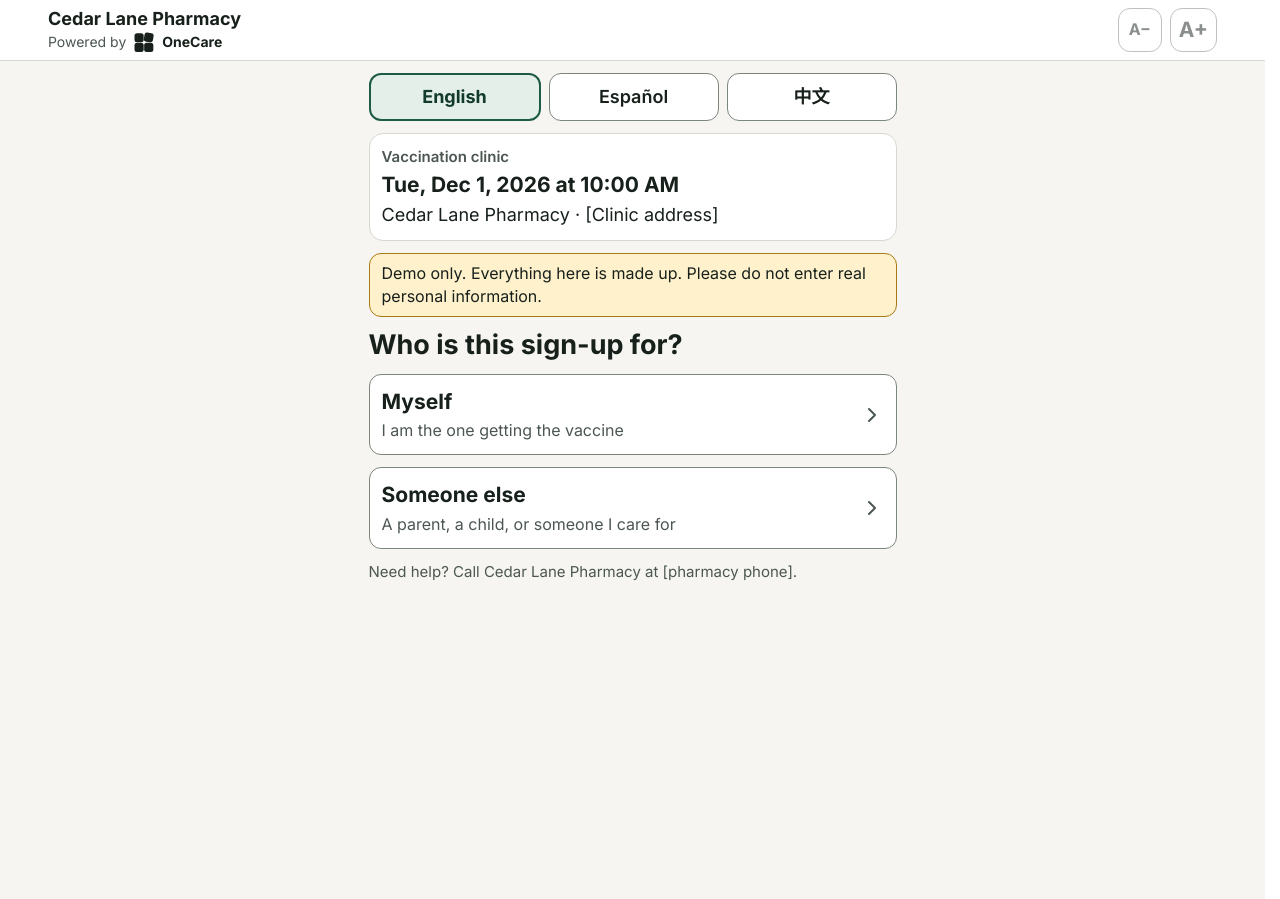
option A at /a › puts "Why we ask" right under the title of an open panel, folded
Expected: the text "Tue, Dec 1, 2026 at 10:00 AM" is shown, [382, 172, 679, 197]
Click the button "Someone else A parent, a child, or someone I care for" at (454,495), box [368, 468, 896, 549]
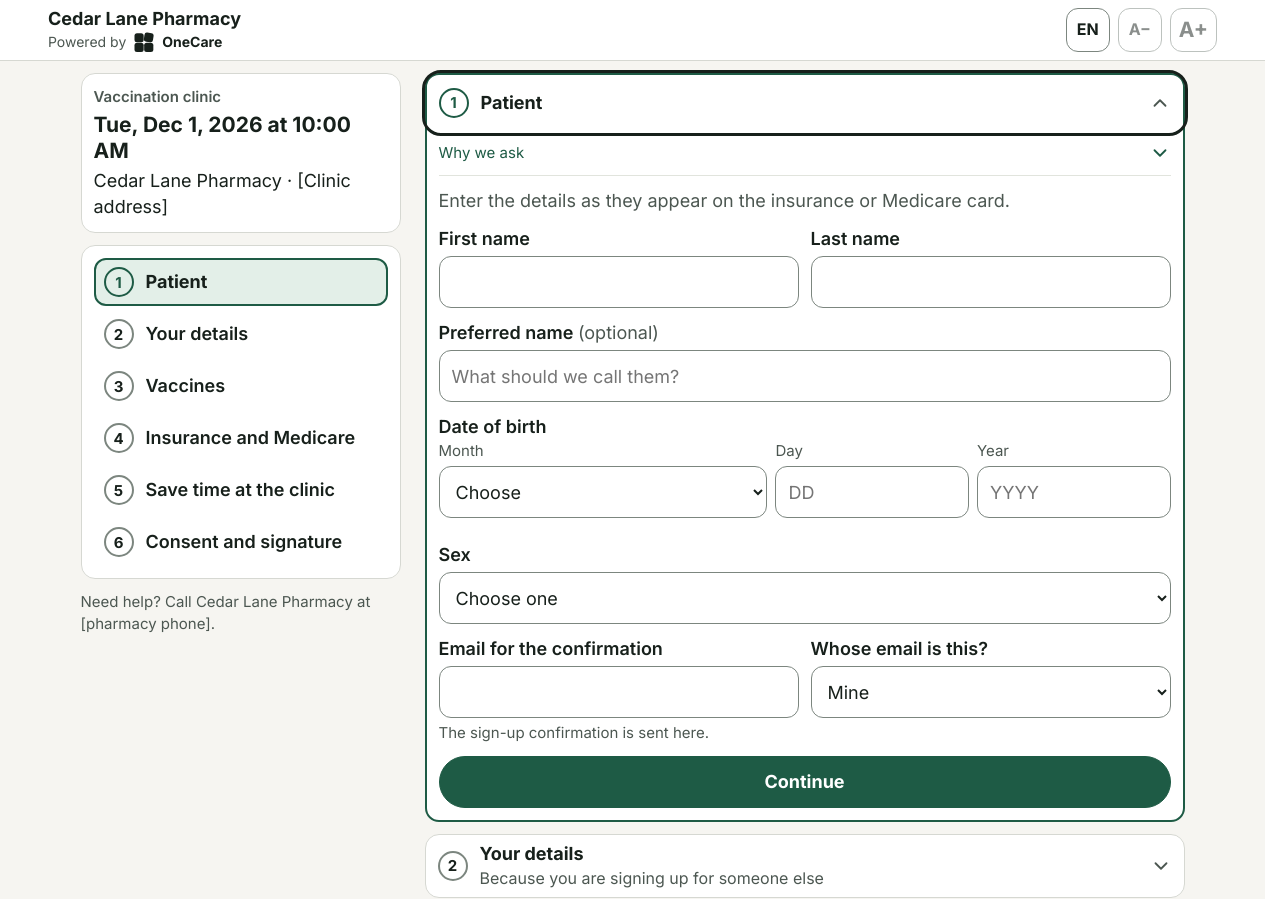
Click the button "Why we ask" at (481,153), box [438, 131, 1170, 175]
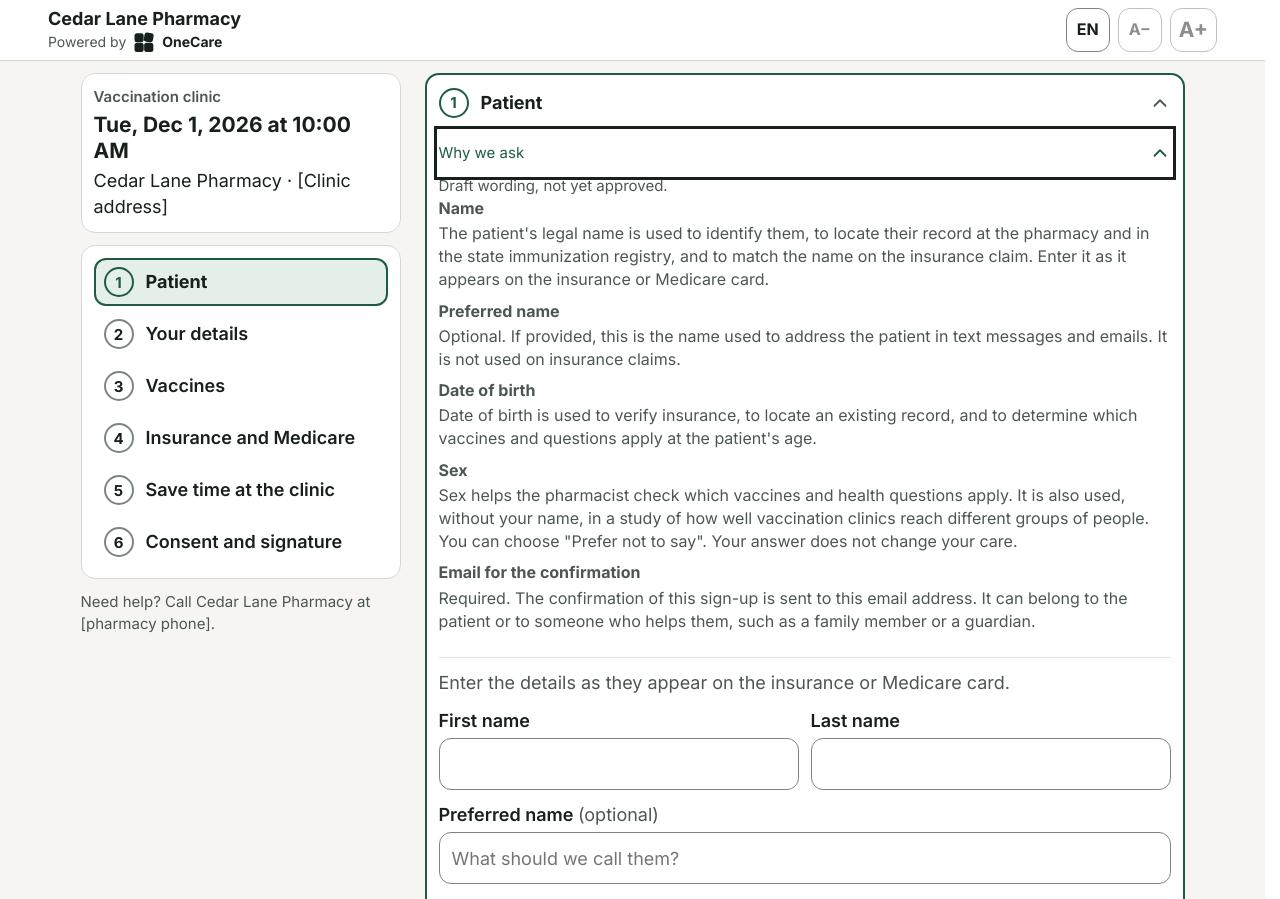
Result: the text "locate their record at the pharmacy" is shown at [438, 223, 1150, 289]
